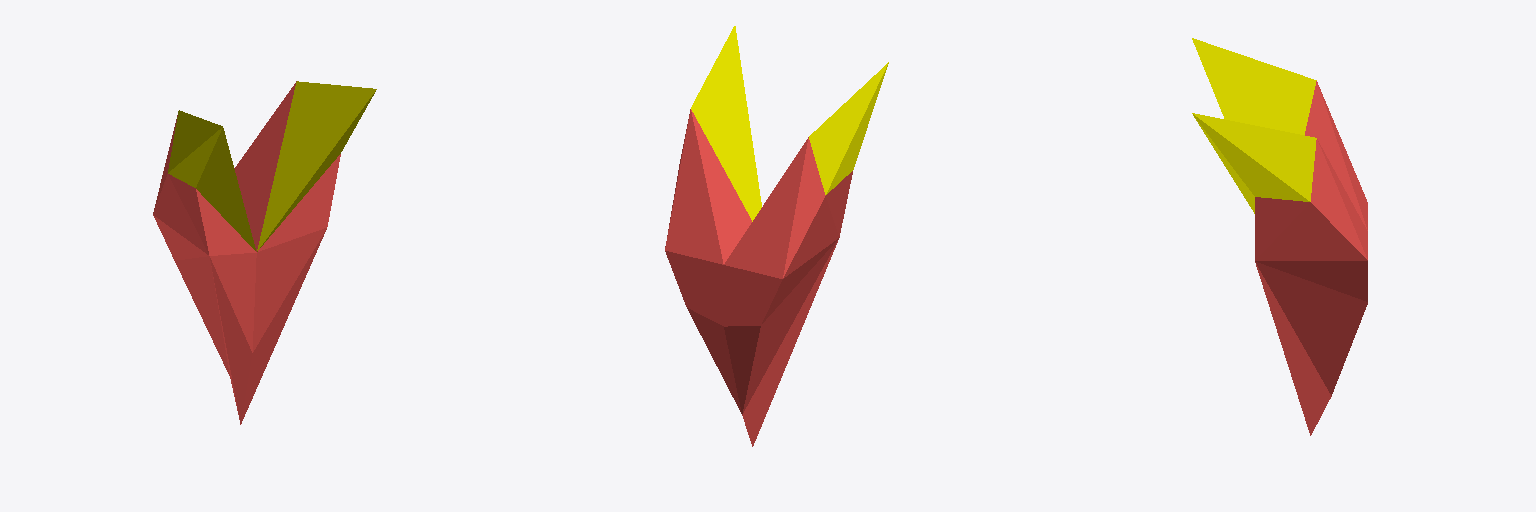
The picture shows the model from 3 angles: view 1: azimuth 30°, elevation 25°; view 2: azimuth 150°, elevation 25°; view 3: azimuth 270°, elevation 25°; orthographic projection.
Visible parts, largest first — view 1: 立方体; view 2: 立方体; view 3: 立方体.
Part boxes in pixels (x1,y1,x2,y2): 立方体: (153, 81, 376, 424); 立方体: (665, 26, 888, 446); 立方体: (1192, 38, 1367, 435).
Size of the model in its own units: 5.03 by 11.28 by 5.
1 materials, 1 textured.